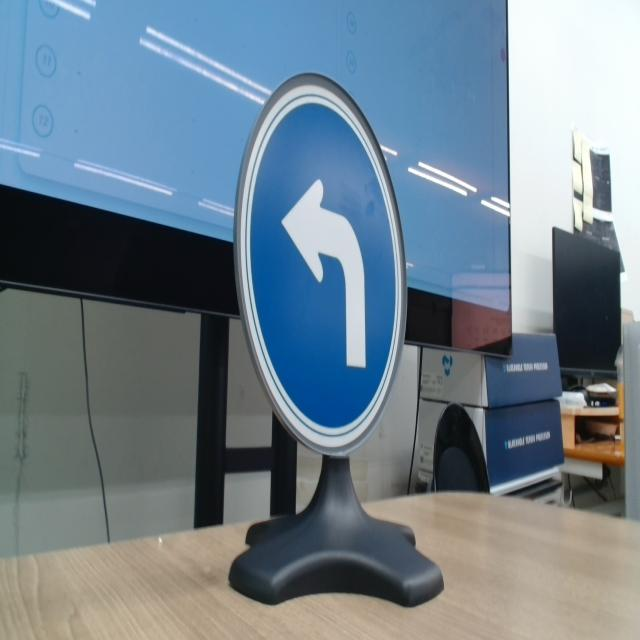left_direction: (229, 65, 409, 448)
